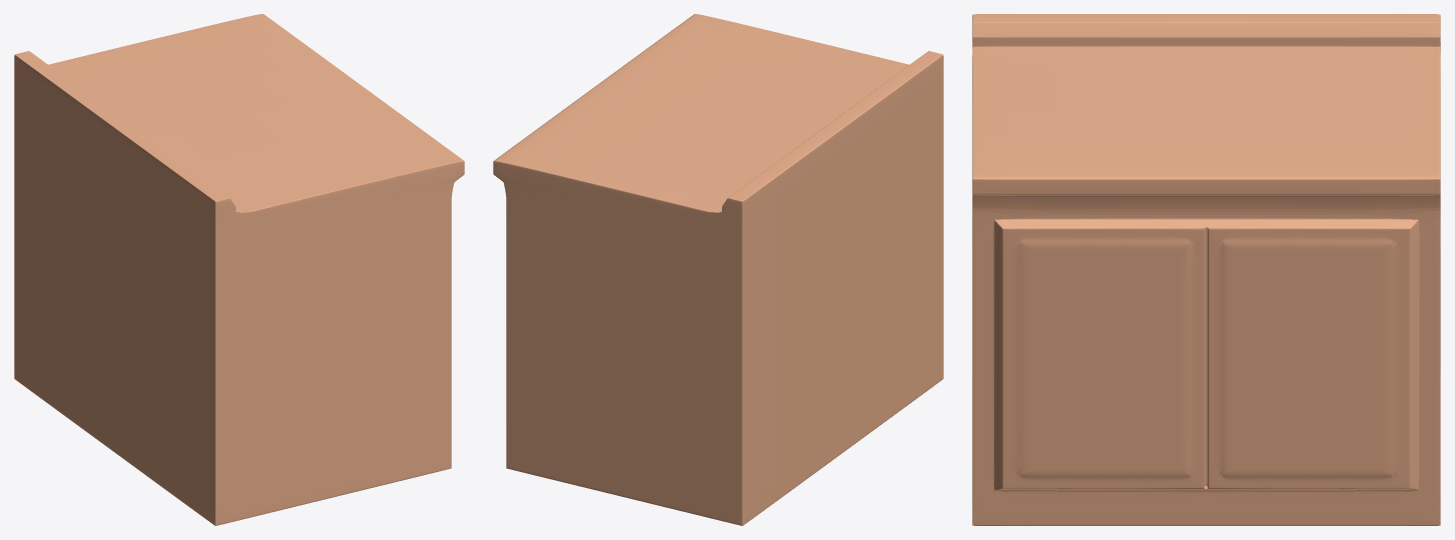
Rendered from blat.fbx.
3 renders of one model, left to right at view 1: azimuth 30°, elevation 25°; view 2: azimuth 150°, elevation 25°; view 3: azimuth 270°, elevation 25°, orthographic. The views are drawn at different scales.
Parts seen in each view (by area): view 1: Kostka.254; view 2: Kostka.254; view 3: Kostka.254.
Part boxes in pixels (x1,y1,x2,y2): Kostka.254: [14, 14, 464, 525]; Kostka.254: [493, 14, 943, 525]; Kostka.254: [972, 14, 1440, 525].
Size of the model in its own units: 73.55 by 91.51 by 103.
